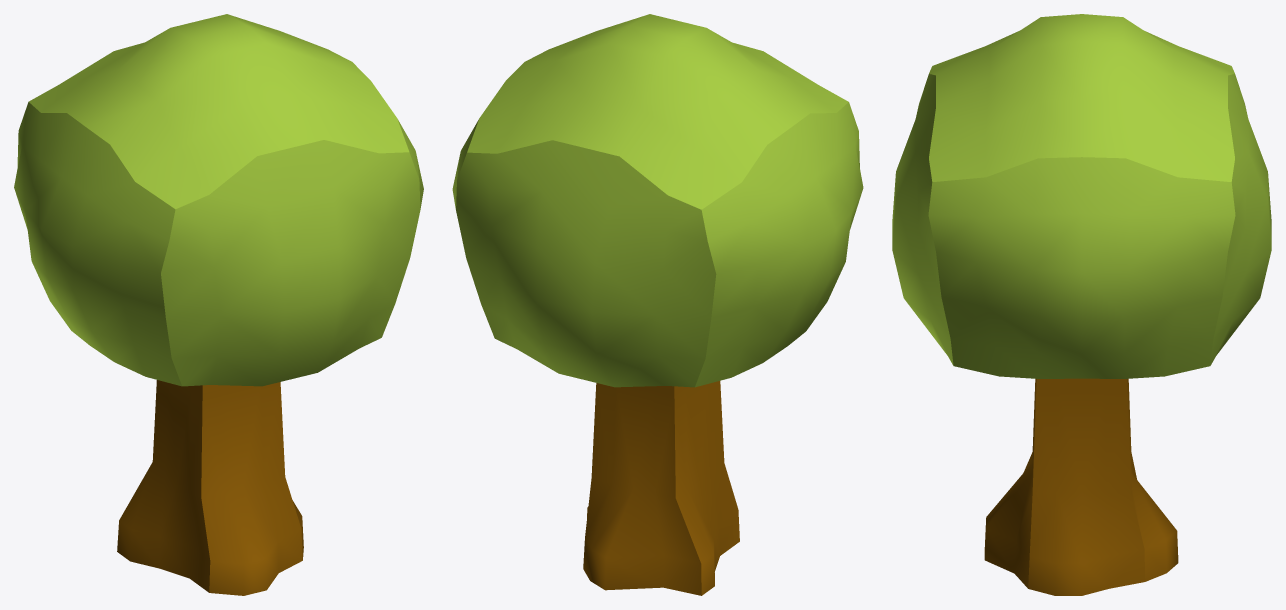
Rendered from tree.gltf.
3 renders of one model, left to right at view 1: azimuth 30°, elevation 25°; view 2: azimuth 150°, elevation 25°; view 3: azimuth 270°, elevation 25°, orthographic.
Visible parts, largest first — view 1: pCube2; view 2: pCube2; view 3: pCube2.
Boxes of the visible parts, x1,y1,x2,y2 form: pCube2: (14, 14, 423, 595); pCube2: (452, 14, 863, 595); pCube2: (892, 14, 1271, 595).
Size of the model in its own units: 0.0388 by 0.0545 by 0.0352.
